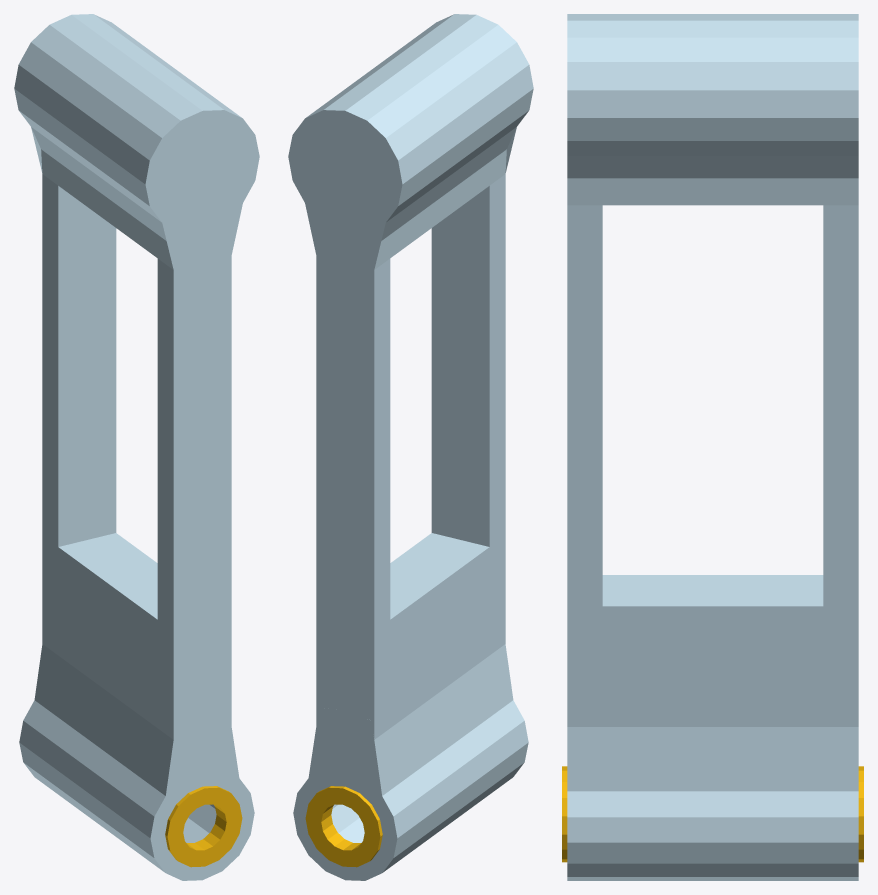
Rendered from rg2_inner_knuckle_low_poly.dae.
The picture shows the model from 3 angles, left to right: view 1: azimuth 30°, elevation 25°; view 2: azimuth 150°, elevation 25°; view 3: azimuth 270°, elevation 25°; orthographic projection. The views are drawn at different scales.
Parts seen in each view (by area): view 1: Cylinder; view 2: Cylinder; view 3: Cylinder.
Boxes of the visible parts, bbox=[...] form: Cylinder: bbox=[14, 14, 259, 880]; Cylinder: bbox=[288, 14, 533, 880]; Cylinder: bbox=[562, 14, 863, 880].
Bounding box in the file's own units: 0.01 × 0.0207 × 0.0646.
